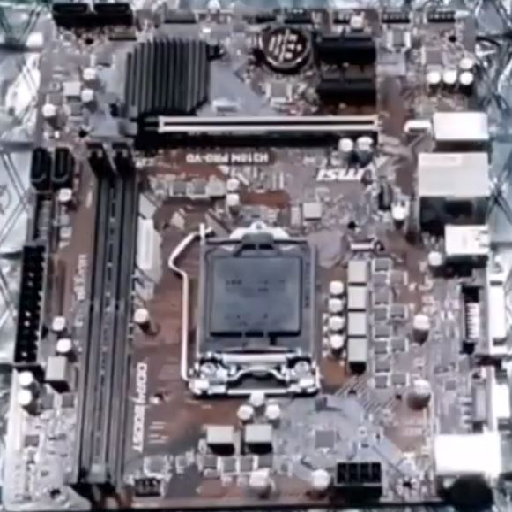CPU: (177, 219, 325, 402)
GPU: (121, 108, 385, 142)
MOTHERBOARD: (10, 5, 505, 503)
RAM: (65, 140, 145, 502)
